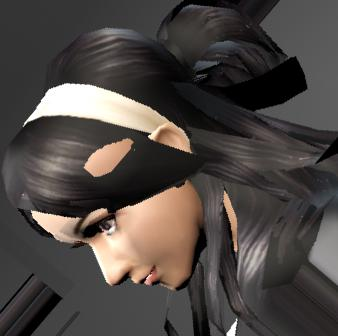clip: (77, 138, 140, 175)
